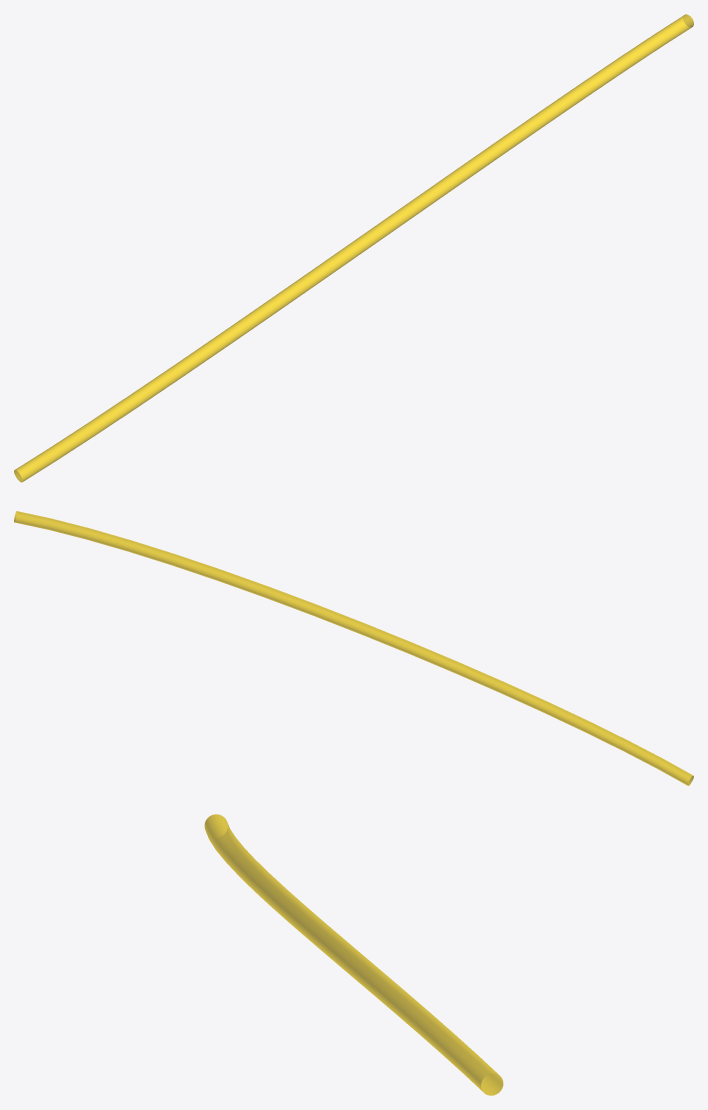
File: Event_84804159_track_77.fbx
3 renders of one model, top to bottom at view 1: azimuth 30°, elevation 25°; view 2: azimuth 150°, elevation 25°; view 3: azimuth 270°, elevation 25°, orthographic. The views are drawn at different scales.
Parts seen in each view (by area): view 1: Model; view 2: Model; view 3: Model.
Boxes of the visible parts, box(x1,y1,x2,y2) form: Model: box(14, 14, 693, 482); Model: box(14, 511, 693, 785); Model: box(204, 814, 503, 1095).
Size of the model in its own units: 2.39 by 0.6638 by 0.5082.
